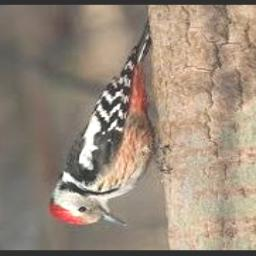Woodpecker: (50, 20, 171, 226)
